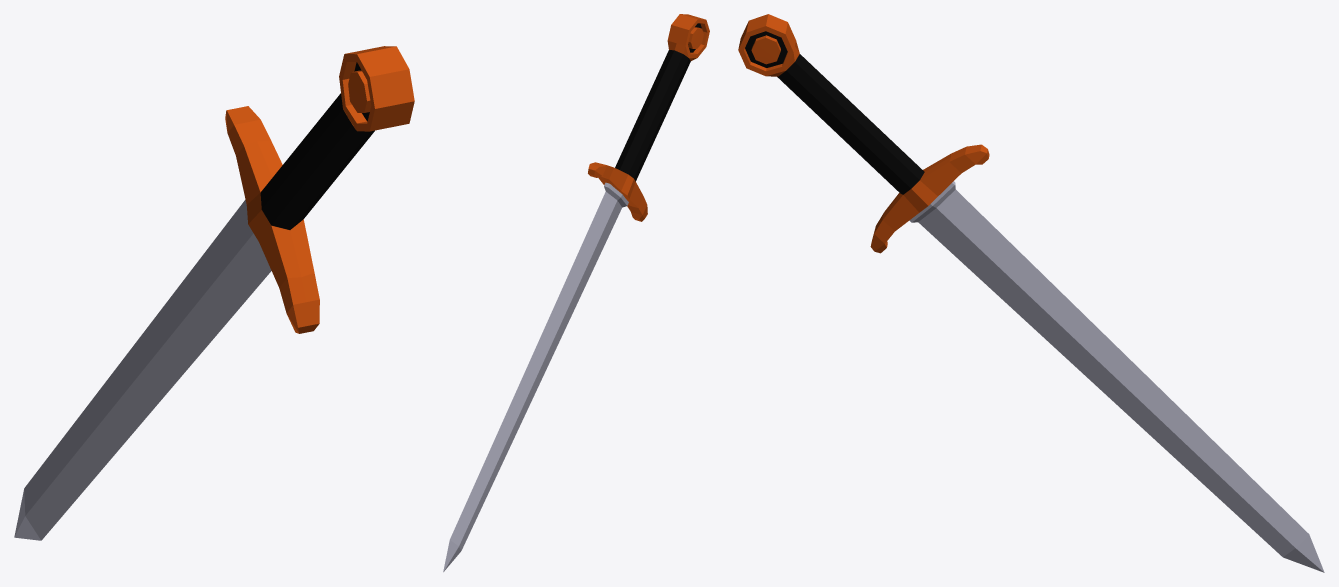
File: Bierns sword.fbx
3 views of the same model, side by side, from view 1: azimuth 30°, elevation 25°; view 2: azimuth 150°, elevation 25°; view 3: azimuth 270°, elevation 25° (orthographic). The views are drawn at different scales.
Parts seen in each view (by area): view 1: Object016; view 2: Object016; view 3: Object016.
Boxes of the visible parts, left/top/right/bottom form: Object016: left=14, top=46, right=414, bottom=540; Object016: left=443, top=14, right=709, bottom=572; Object016: left=738, top=14, right=1324, bottom=572.
Size of the model in its own units: 95.71 by 825 by 824.
